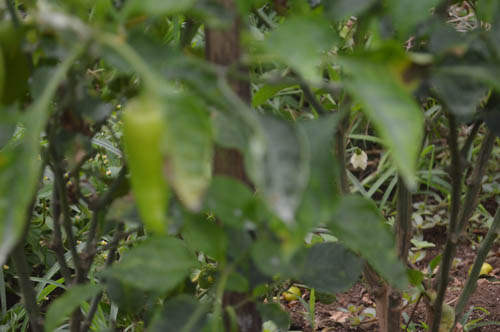ChiliPepper: (120, 97, 174, 233)
